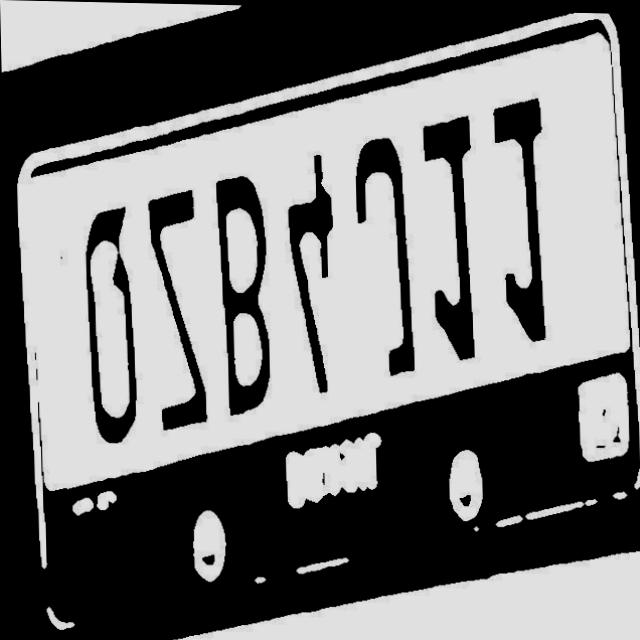1: (418, 104, 487, 361), (487, 86, 556, 336)
4: (270, 153, 340, 408)
b: (212, 172, 278, 421)
j: (342, 133, 419, 389)
q: (76, 200, 146, 449)
z: (143, 180, 207, 432)
